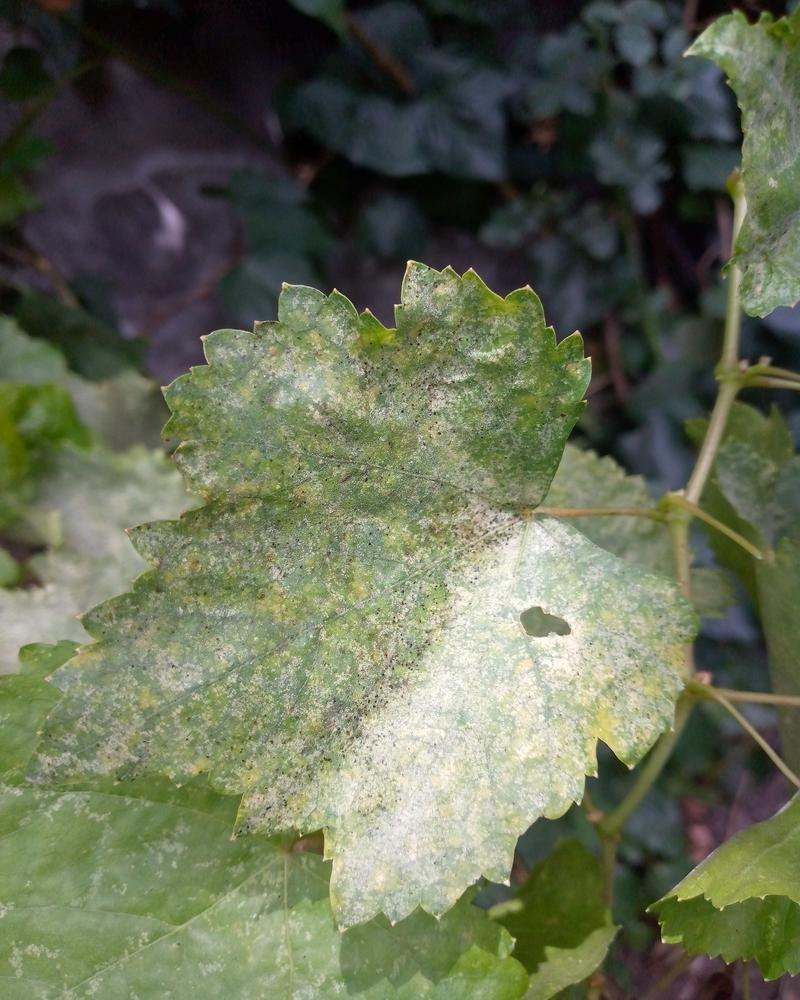Powdery-Mildew: (496, 575, 609, 670), (430, 511, 557, 588), (415, 742, 502, 830), (157, 624, 265, 694), (256, 741, 335, 820), (349, 805, 428, 884), (395, 367, 463, 435), (543, 643, 611, 711), (426, 645, 494, 713), (342, 701, 410, 769), (299, 345, 346, 392)
